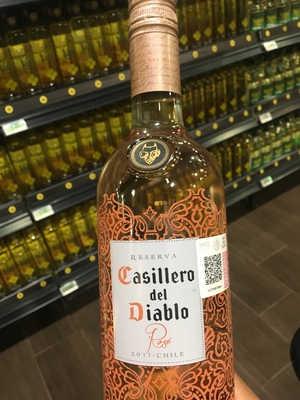casillero del diablo rose: (80, 8, 235, 397)
